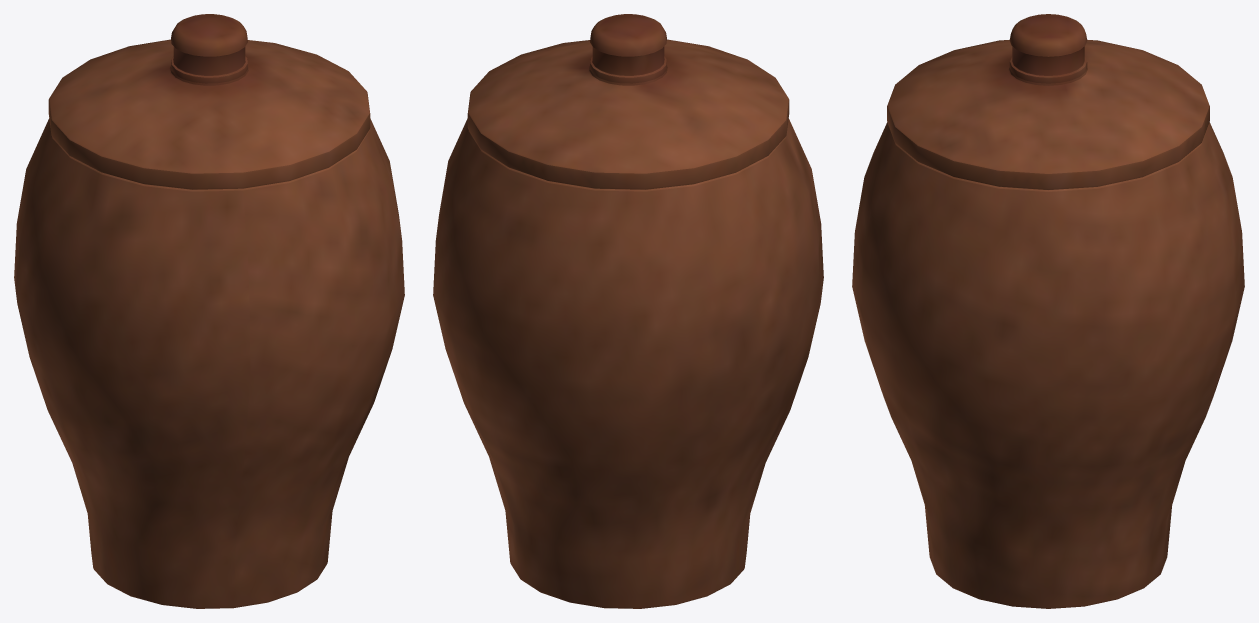
File: Clay_CupnUrn_low2_withHat.fbx
3 renders of one model, left to right at view 1: azimuth 30°, elevation 25°; view 2: azimuth 150°, elevation 25°; view 3: azimuth 270°, elevation 25°, orthographic.
Parts seen in each view (by area): view 1: Clay_Urn_low1, Clay_Urn_low1.001; view 2: Clay_Urn_low1, Clay_Urn_low1.001; view 3: Clay_Urn_low1, Clay_Urn_low1.001.
Part boxes in pixels (<box>): Clay_Urn_low1: <box>14,118,404,608</box>; Clay_Urn_low1.001: <box>48,14,370,191</box>; Clay_Urn_low1: <box>433,118,823,608</box>; Clay_Urn_low1.001: <box>467,14,789,191</box>; Clay_Urn_low1: <box>852,122,1244,608</box>; Clay_Urn_low1.001: <box>887,14,1209,191</box>.
Size of the model in its own units: 32.75 by 49.45 by 32.75.
